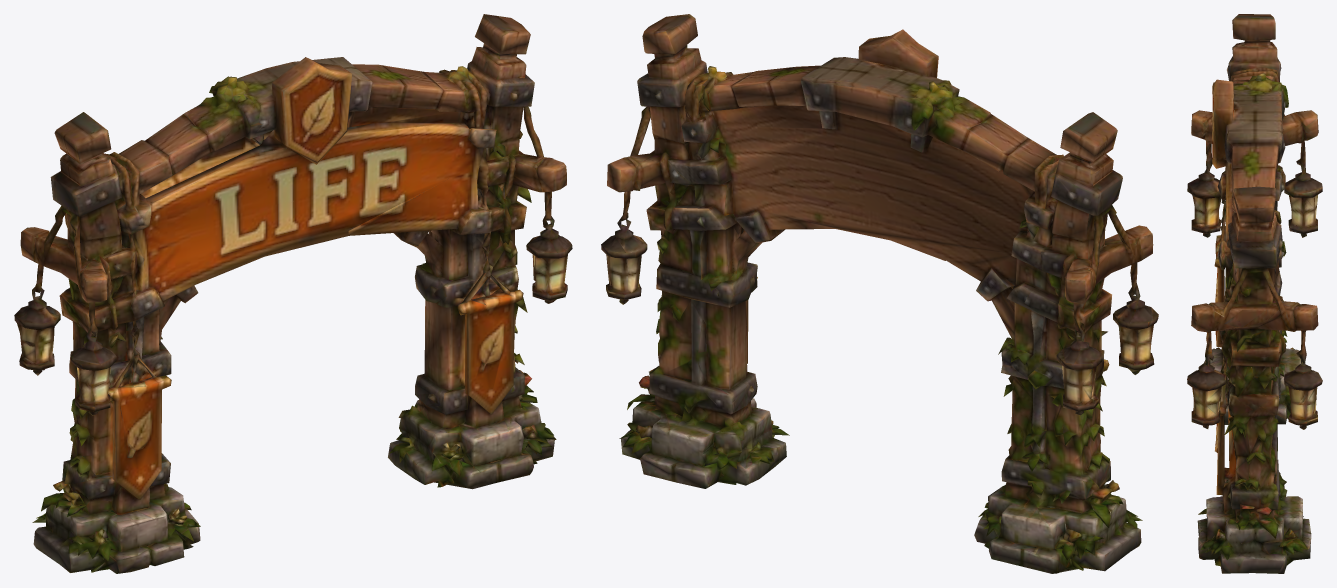
Rendered from arch-life.glb.
The picture shows the model from 3 angles, left to right: view 1: azimuth 30°, elevation 25°; view 2: azimuth 150°, elevation 25°; view 3: azimuth 270°, elevation 25°; orthographic projection. The views are drawn at different scales.
Parts seen in each view (by area): view 1: Mesh1.0; view 2: Mesh1.0; view 3: Mesh1.0.
Part boxes in pixels (x1=…): Mesh1.0: x1=14, y1=14, x2=572, y2=573; Mesh1.0: x1=601, y1=14, x2=1158, y2=573; Mesh1.0: x1=1187, y1=14, x2=1322, y2=573.
Size of the model in its own units: 1.89 by 1.67 by 0.5222.
Materials: 1 (1 with a texture image).
